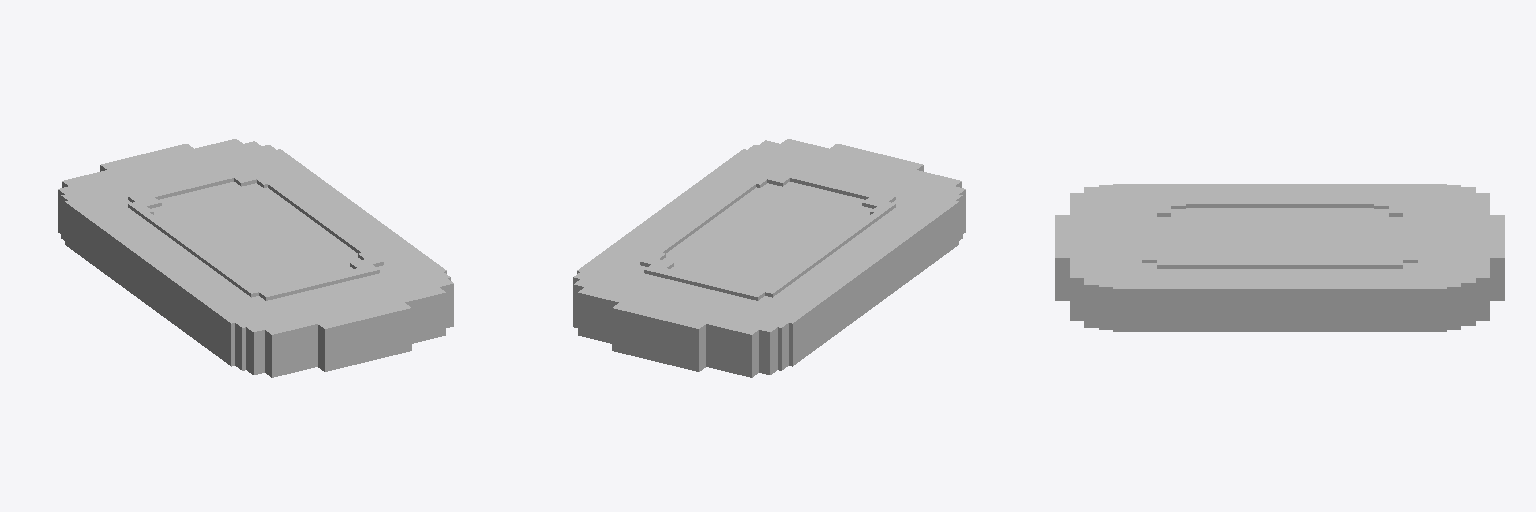
The model's file is pista.obj.
3 views of the same model, side by side, from view 1: azimuth 30°, elevation 25°; view 2: azimuth 150°, elevation 25°; view 3: azimuth 270°, elevation 25° (orthographic).
Parts seen in each view (by area): view 1: Cylinder.002_Cylinder.003; view 2: Cylinder.002_Cylinder.003; view 3: Cylinder.002_Cylinder.003.
Boxes of the visible parts, box(x1,y1,x2,y2) form: Cylinder.002_Cylinder.003: box(58, 139, 453, 377); Cylinder.002_Cylinder.003: box(573, 139, 965, 377); Cylinder.002_Cylinder.003: box(1055, 184, 1504, 331).
Size of the model in its own units: 10.56 by 2.18 by 19.05.